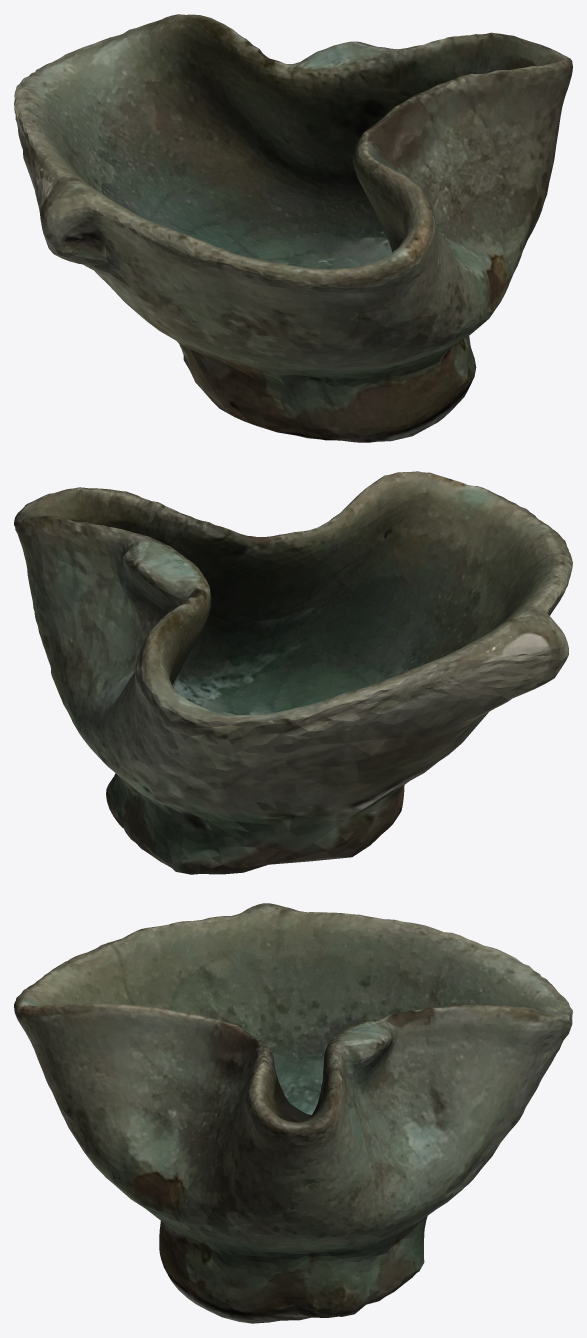
3 views of the same model, one above another, from view 1: azimuth 30°, elevation 25°; view 2: azimuth 150°, elevation 25°; view 3: azimuth 270°, elevation 25° (orthographic). The views are drawn at different scales.
Bounding box in the file's own units: 0.6682 × 0.364 × 0.665.
1 material, 1 textured.
